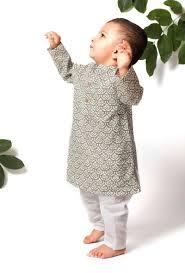Human: (38, 11, 150, 260)
